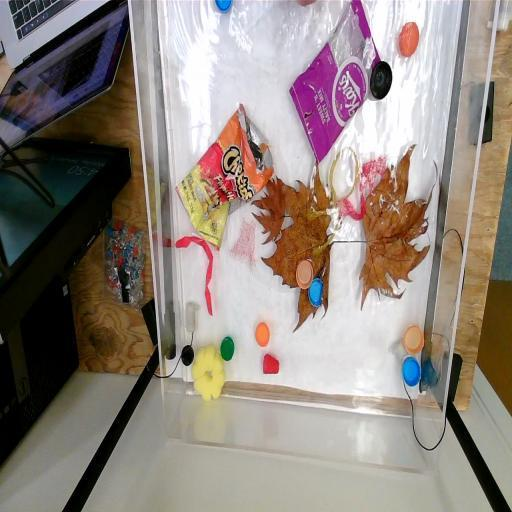Bottle Cap: (368, 54, 394, 105), (398, 14, 422, 62), (400, 353, 422, 391), (403, 319, 425, 357), (293, 254, 315, 290), (218, 334, 236, 366), (254, 318, 270, 352), (308, 278, 326, 308), (180, 342, 196, 367), (214, 0, 234, 15)
Cone Cap: (259, 350, 283, 380)
Leaf: (352, 146, 438, 316), (254, 169, 342, 330), (249, 170, 291, 248)
Netting: (340, 155, 386, 221), (226, 215, 260, 270)
Plastic Bag: (172, 96, 276, 254), (288, 0, 384, 171)
Plastic Strand: (306, 144, 360, 257), (173, 232, 218, 320)
Sponge: (190, 342, 226, 412)
